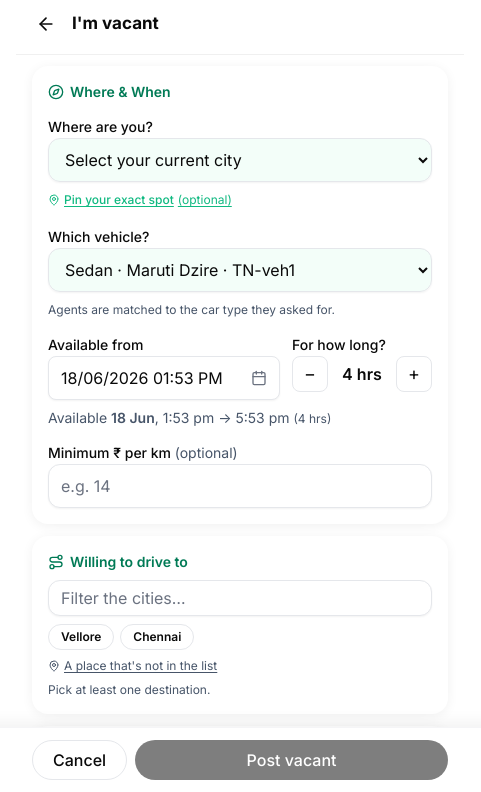
Test: PostVacancyPage › filters the destination chips by the search box and keeps a selected chip visible
Expected: the button "Vellore" is shown, [48,624,114,650]
Expected: the button "Chennai" is shown, [120,624,194,650]
Type "chen" into the search field with placeholder "Filter the cities…" at {"x": 240, "y": 598}, box [48,580,432,616]
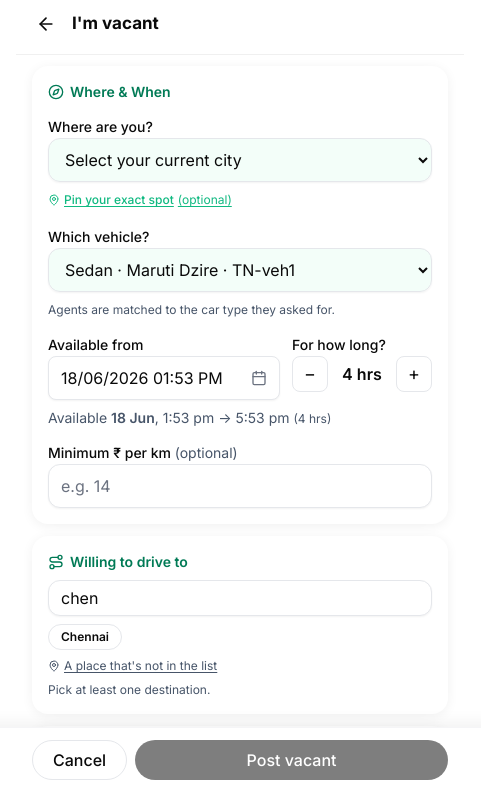
Expected: the button "Vellore" is gone
Click the button "Chennai" at {"x": 85, "y": 637}, box [48,624,122,650]
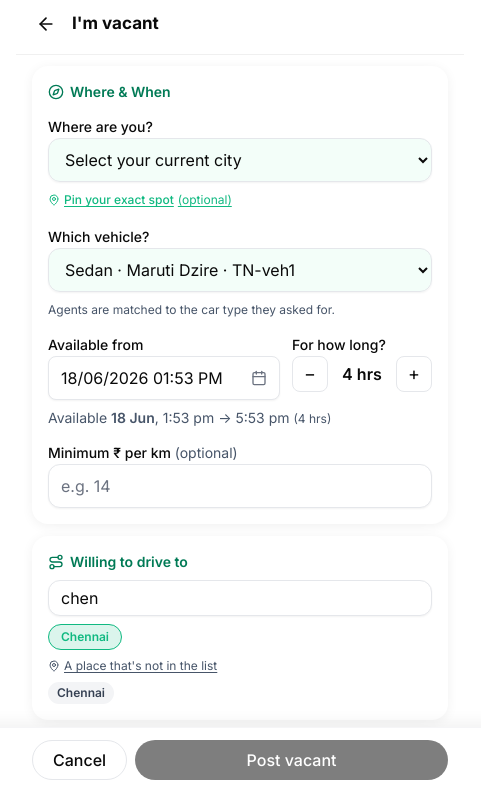
Replace the text in the search field with placeholder "Filter the cities…" with "vell" at {"x": 240, "y": 598}, box [48,580,432,616]
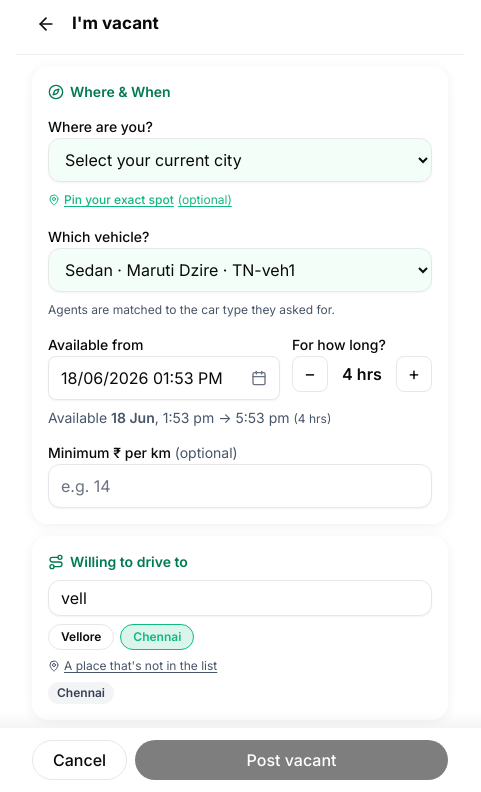
Expected: the button "Chennai" is shown, [120,624,194,650]
Expected: the button "Vellore" is shown, [48,624,114,650]
